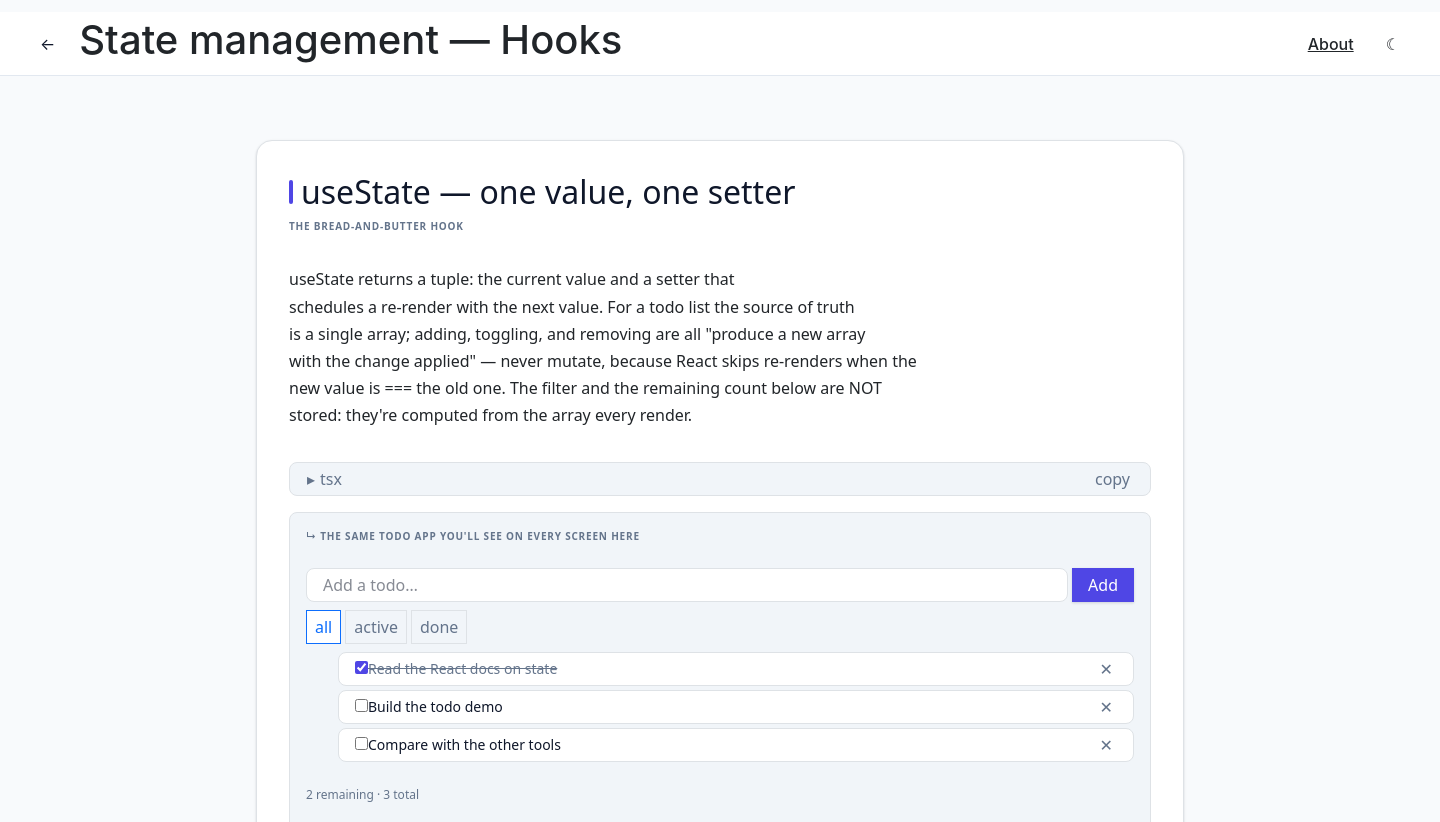
Test: State management — Hooks screen › adds a todo to the useState list and updates the remaining count
expect the heading "useState — one value, one setter" is shown: met, box [289,170,795,213]
Note: Scope to the useState demo — the useReducer demo renders the same seed.
Type "Write a spec" into the field labelled "Add a todo" at (687, 584), box [306,568,1068,602]
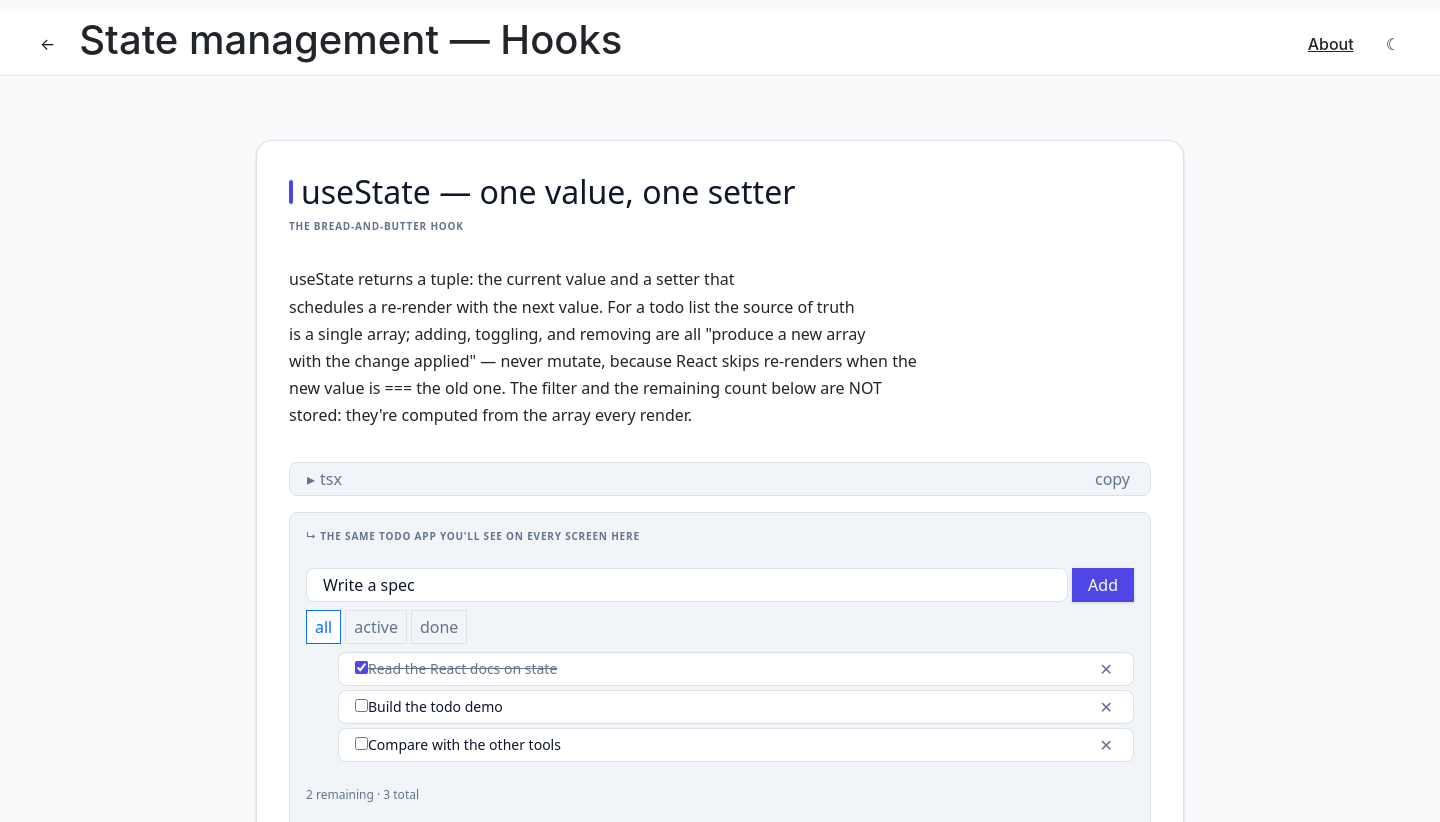
Click the button "Add" at (1103, 584), box [1072,568,1134,602]
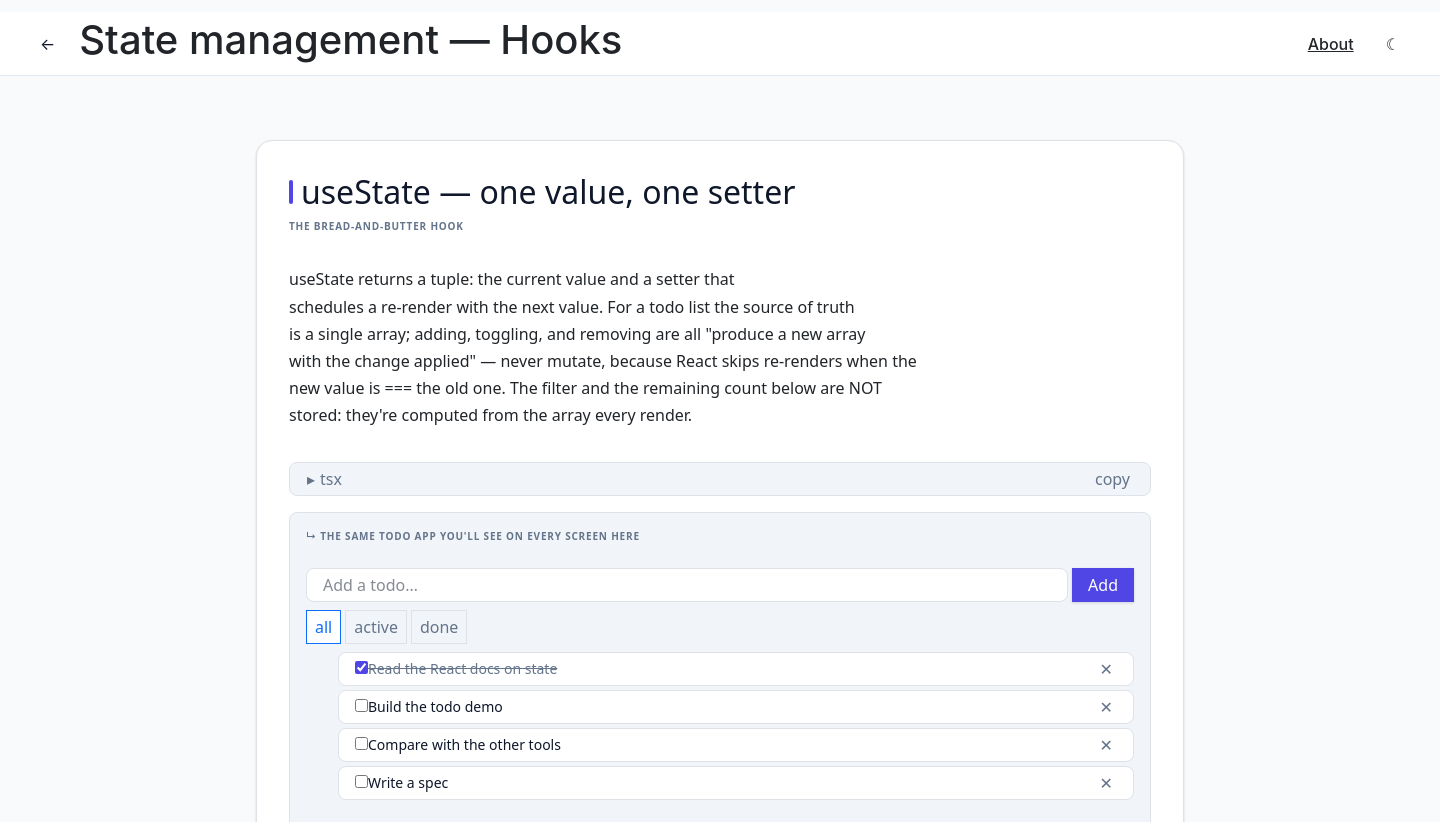
expect the text "Write a spec" is shown: met, box [368,773,448,792]
